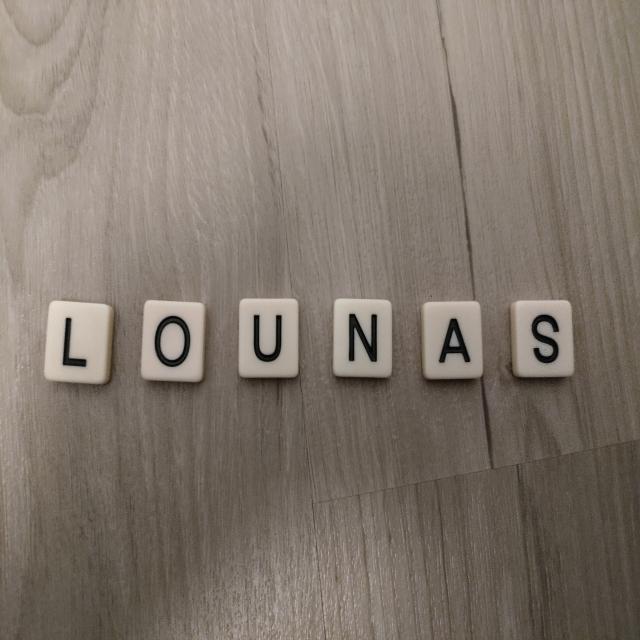a: (421, 301, 484, 380)
l: (43, 299, 115, 386)
n: (333, 298, 392, 379)
o: (140, 300, 207, 383)
s: (510, 300, 574, 377)
u: (238, 298, 299, 378)
